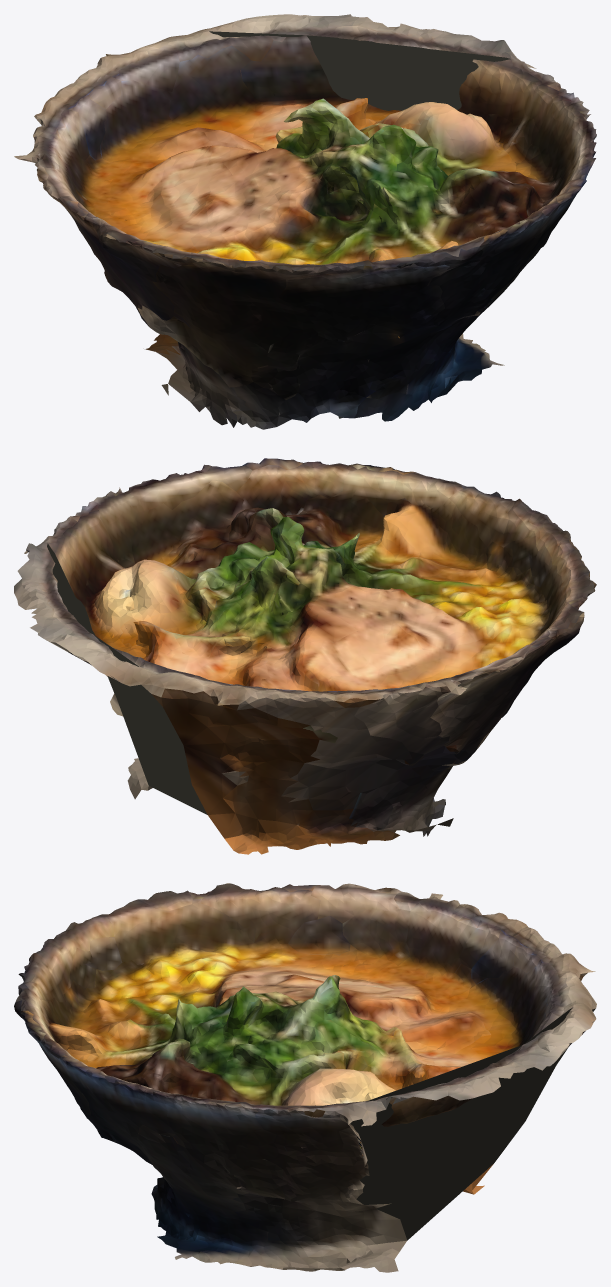
Rendered from Miso.obj.
3 views of the same model, one above another, from view 1: azimuth 30°, elevation 25°; view 2: azimuth 150°, elevation 25°; view 3: azimuth 270°, elevation 25° (orthographic).
Visible parts, largest first — view 1: map_a7afa733-102e-436a-b0c3-ae2a59c777c7_densified_mesh_texture; view 2: map_a7afa733-102e-436a-b0c3-ae2a59c777c7_densified_mesh_texture; view 3: map_a7afa733-102e-436a-b0c3-ae2a59c777c7_densified_mesh_texture.
Boxes of the visible parts, left/top/right/bottom form: map_a7afa733-102e-436a-b0c3-ae2a59c777c7_densified_mesh_texture: left=14, top=14, right=596, bottom=429; map_a7afa733-102e-436a-b0c3-ae2a59c777c7_densified_mesh_texture: left=14, top=458, right=596, bottom=854; map_a7afa733-102e-436a-b0c3-ae2a59c777c7_densified_mesh_texture: left=14, top=883, right=596, bottom=1272.
Size of the model in its own units: 0.226 by 0.1187 by 0.2317.
